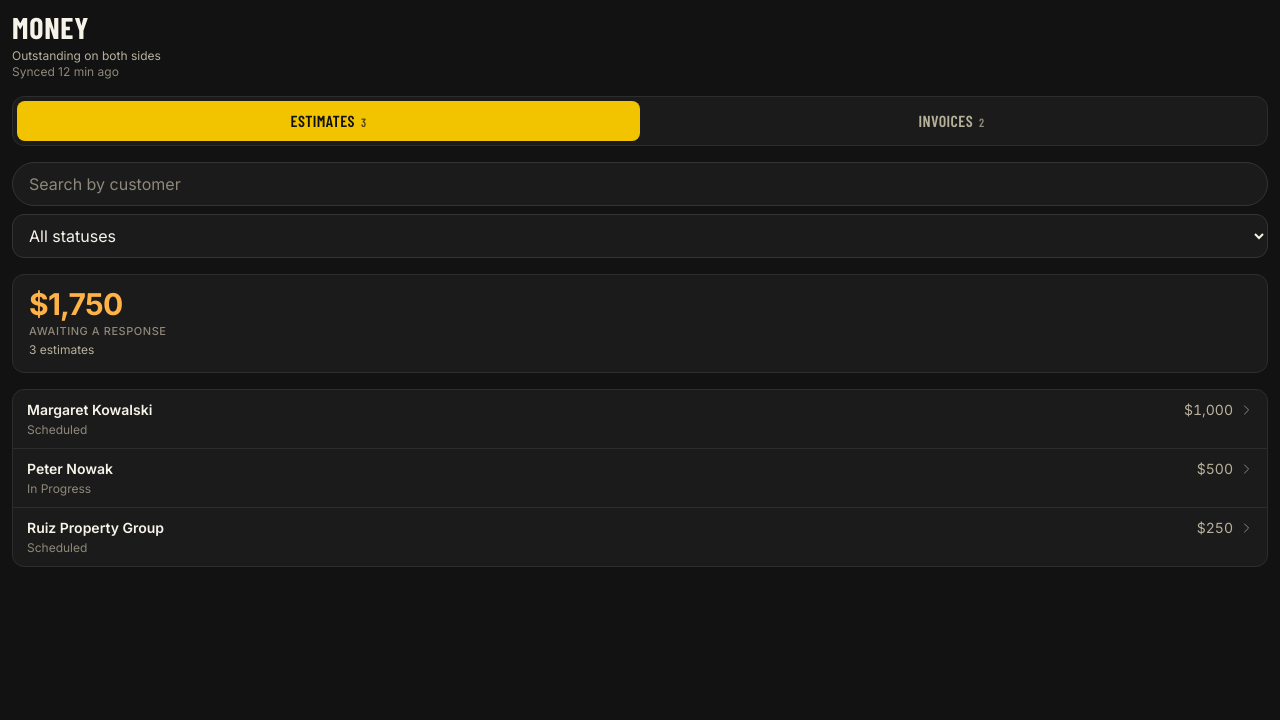
MoneyPage filtering › puts the whole list back from the empty state
The width and height of the screenshot is (1280, 720).
Expected: the text "Margaret Kowalski" is shown, [27,400,152,420]
Type "nobody at all" into the search field labelled "Search by customer".
click(640, 184); type("nobody at all")  # box [12,162,1268,206]
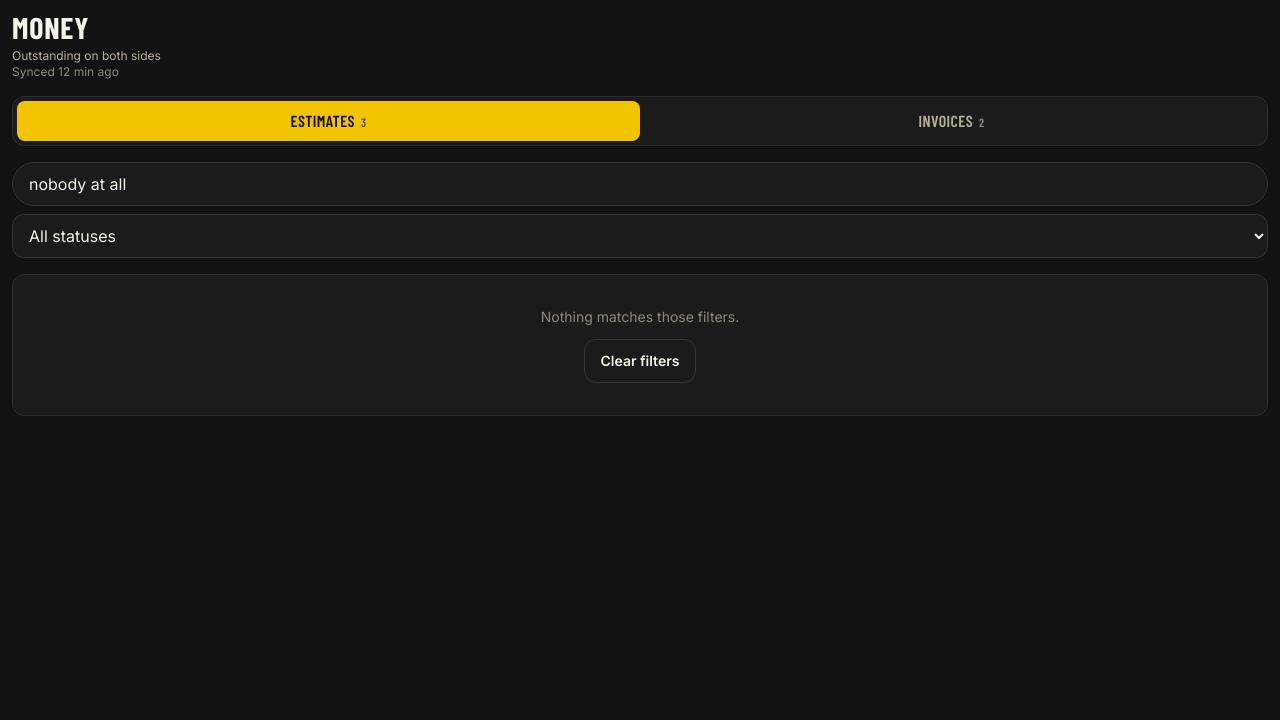
Click the button "Clear filters".
click(640, 361)  # box [584,339,696,383]
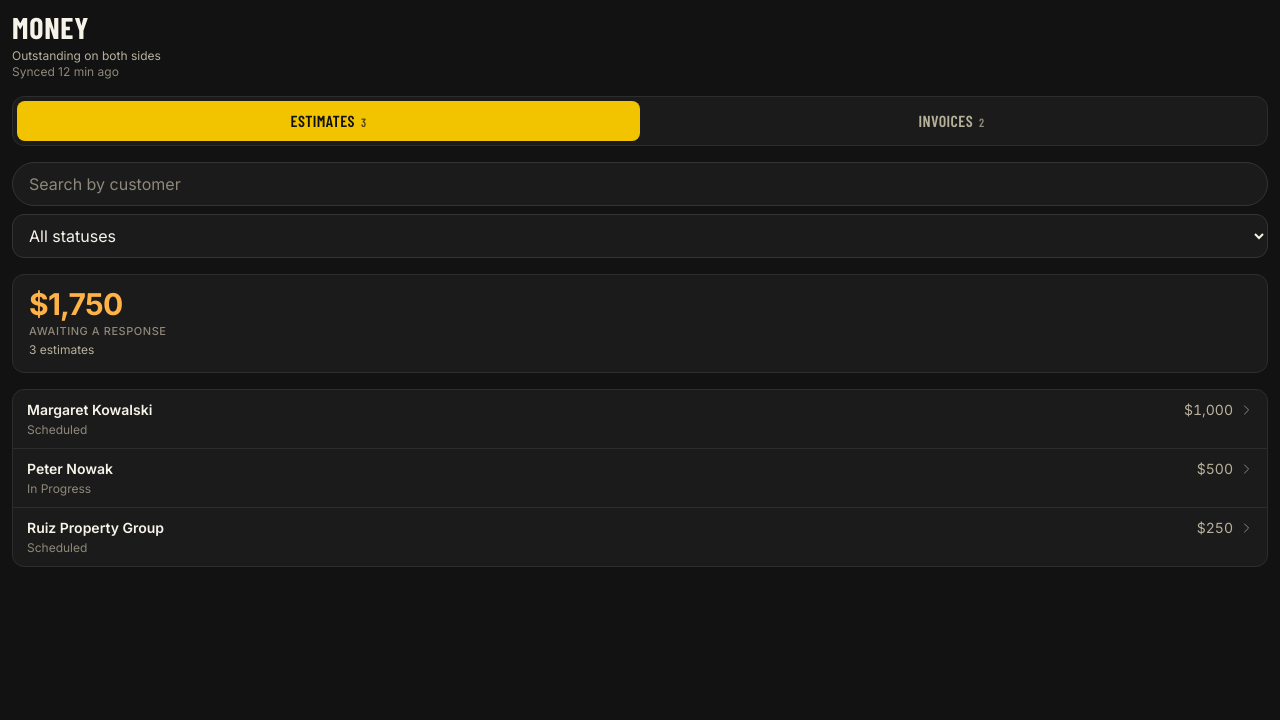
Expected: the text "Margaret Kowalski" is shown, [27,400,152,420]
Expected: the text "$1,750" is shown, [29,286,122,322]
